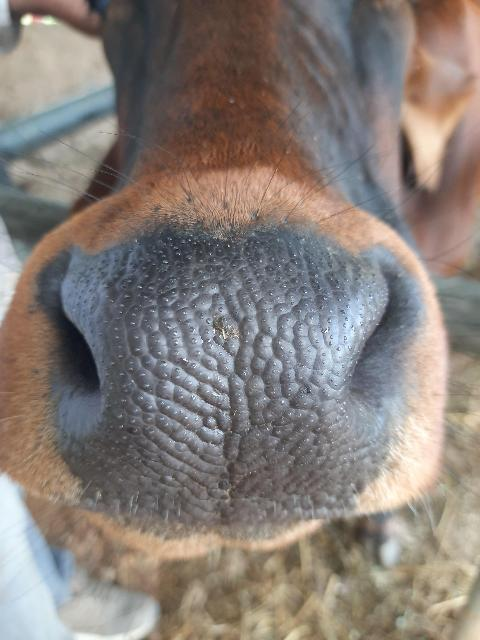Muzzle: (96, 246, 334, 518)
